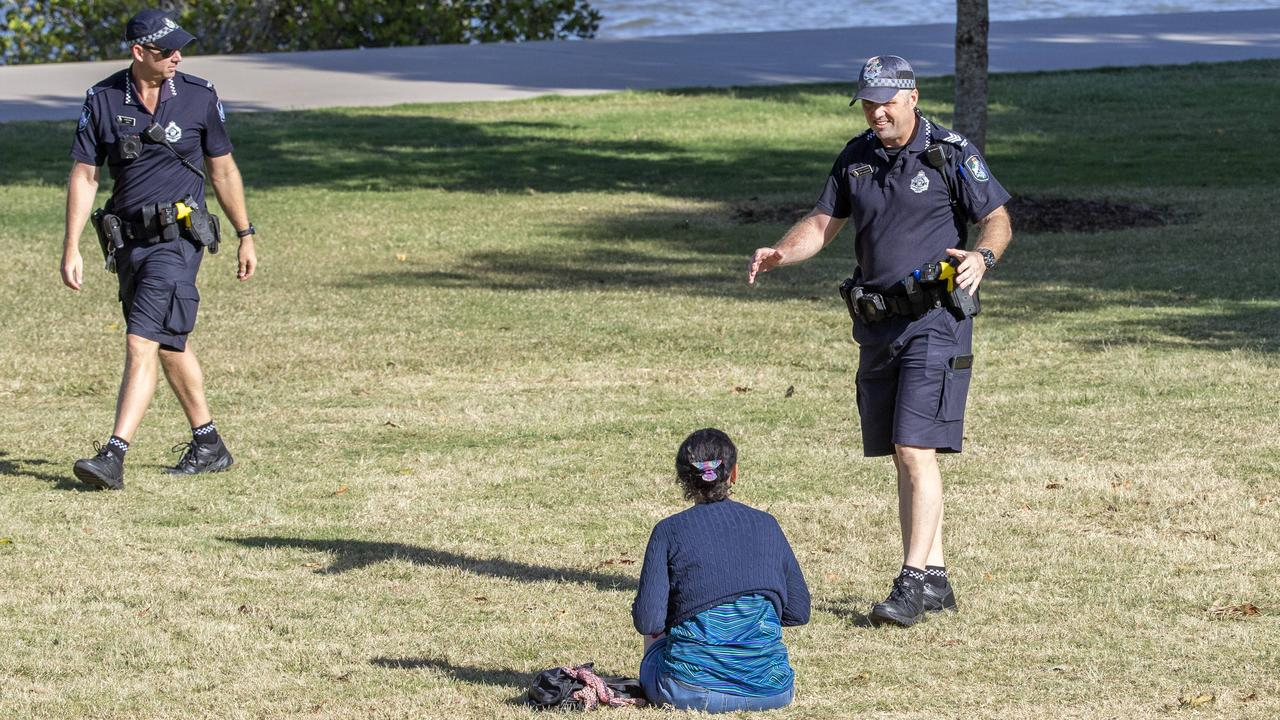Person: (809, 52, 1015, 623), (60, 10, 257, 490), (634, 428, 810, 711)
